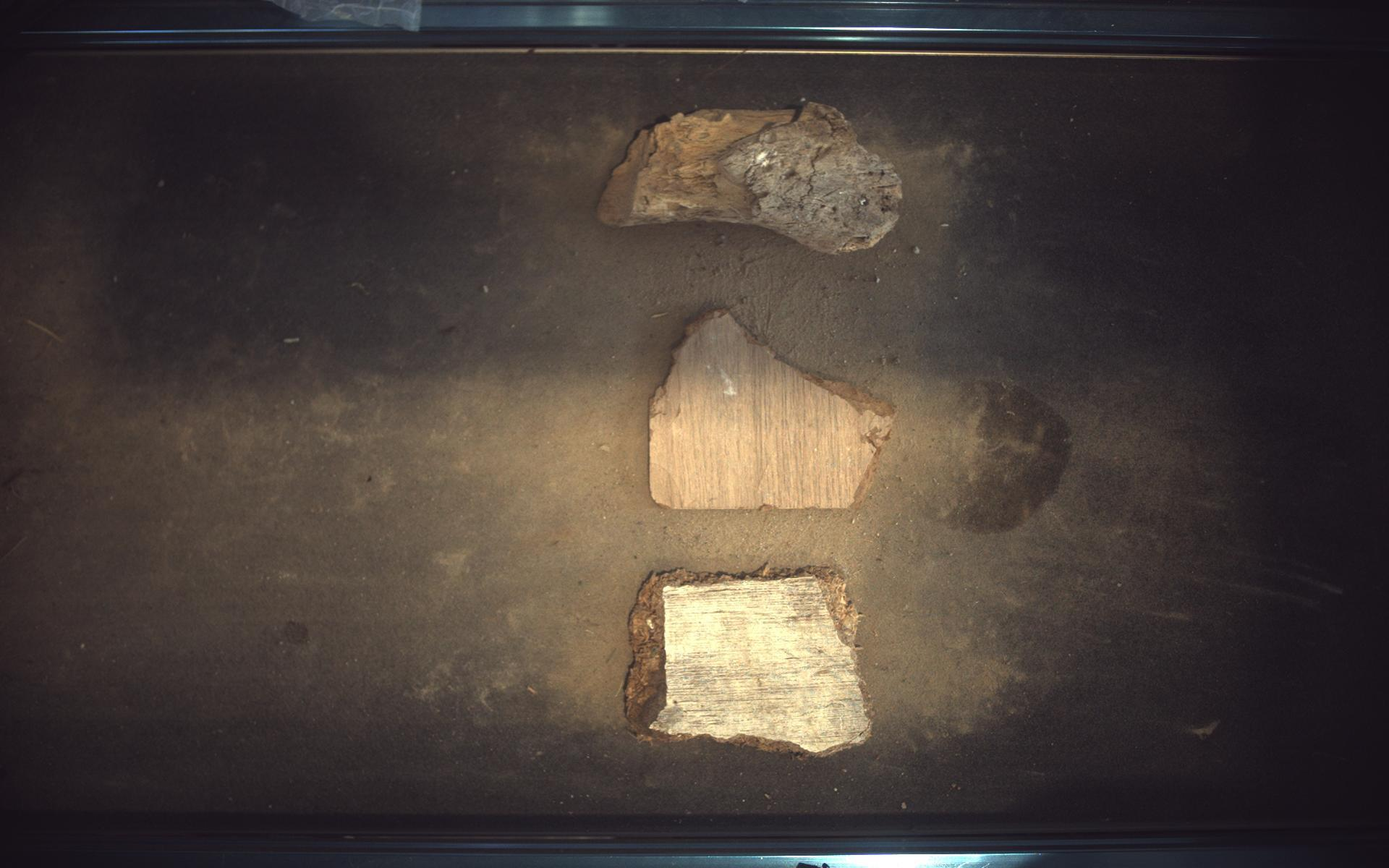wood: (650, 309, 896, 509), (626, 567, 873, 756), (598, 101, 904, 252)
